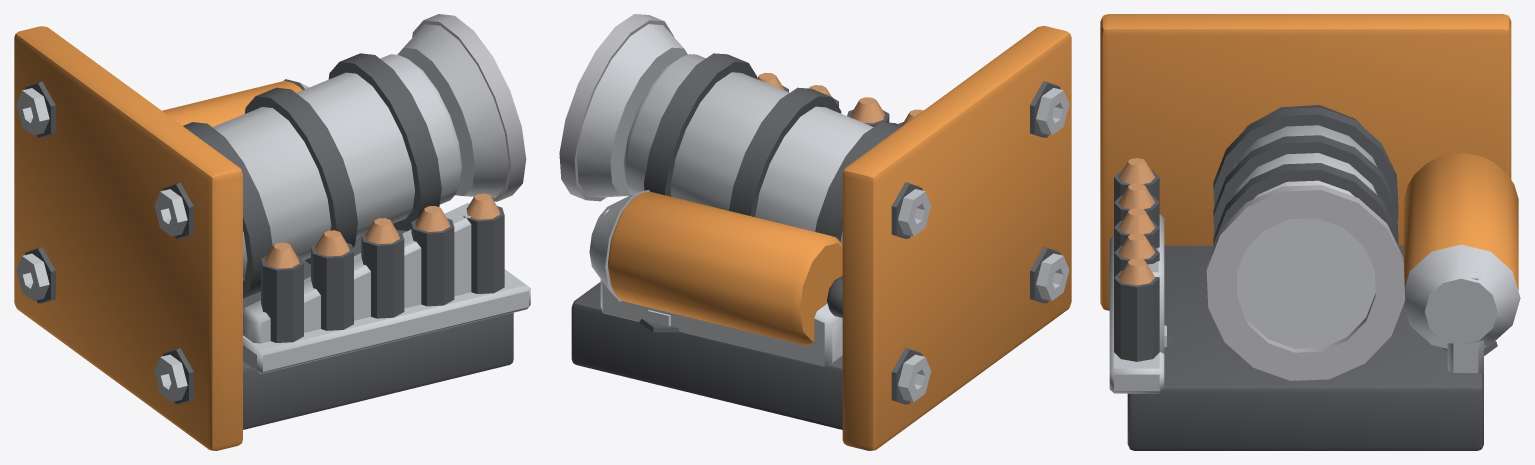
File: napalm_cannon.glb
The picture shows the model from 3 angles, left to right: view 1: azimuth 30°, elevation 25°; view 2: azimuth 150°, elevation 25°; view 3: azimuth 270°, elevation 25°; orthographic projection. The views are drawn at different scales.
Parts seen in each view (by area): view 1: body; view 2: body; view 3: body.
Part boxes in pixels (box(x1,y1,x2,y2)): body: box(14, 14, 530, 450); body: box(559, 14, 1071, 450); body: box(1100, 14, 1520, 450).
Size of the model in its own units: 0.2031 by 0.138 by 0.184.
